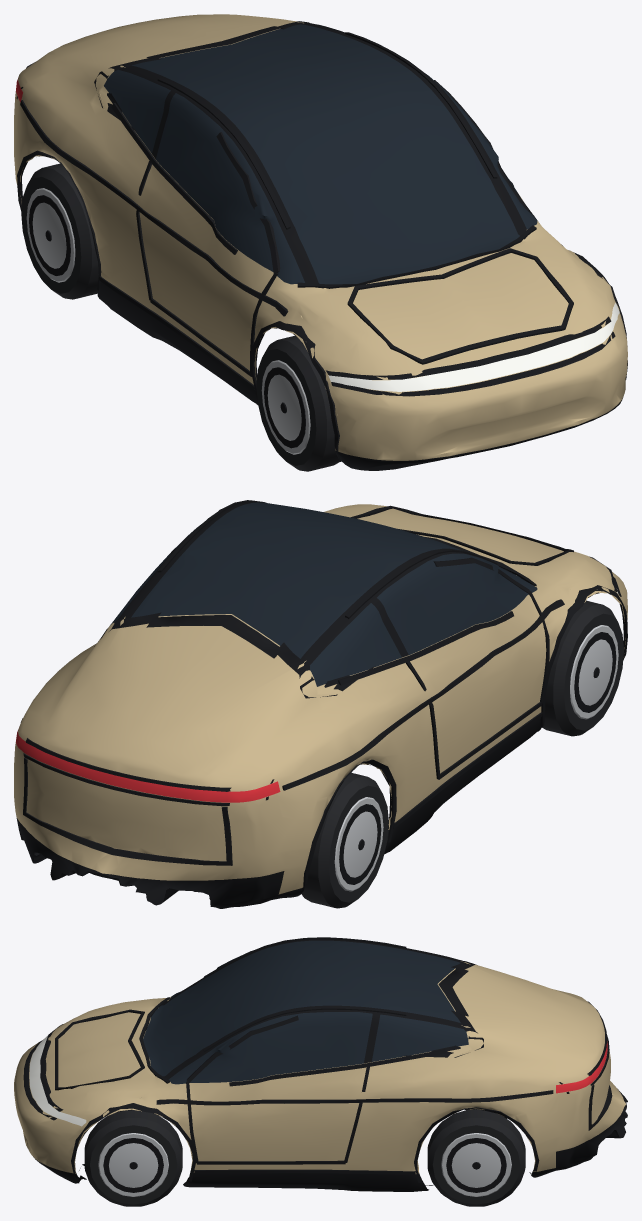
File: cybercab.glb
3 renders of one model, top to bottom at view 1: azimuth 30°, elevation 25°; view 2: azimuth 150°, elevation 25°; view 3: azimuth 270°, elevation 25°, orthographic. The views are drawn at different scales.
Parts seen in each view (by area): view 1: body, wheel_FR, wheel_RR; view 2: body, wheel_RR, wheel_FR; view 3: body, wheel_RL, wheel_FL.
Part boxes in pixels (x1,y1,x2,y2): body: (14, 14, 627, 470); wheel_FR: (256, 335, 339, 471); wheel_RR: (21, 163, 98, 299); body: (14, 500, 627, 908); wheel_RR: (301, 773, 388, 908); wheel_FR: (542, 600, 623, 736); body: (14, 937, 627, 1191); wheel_RL: (427, 1109, 525, 1206); wheel_FL: (84, 1110, 182, 1206).
Size of the model in its own units: 1.96 by 1.51 by 4.55.
